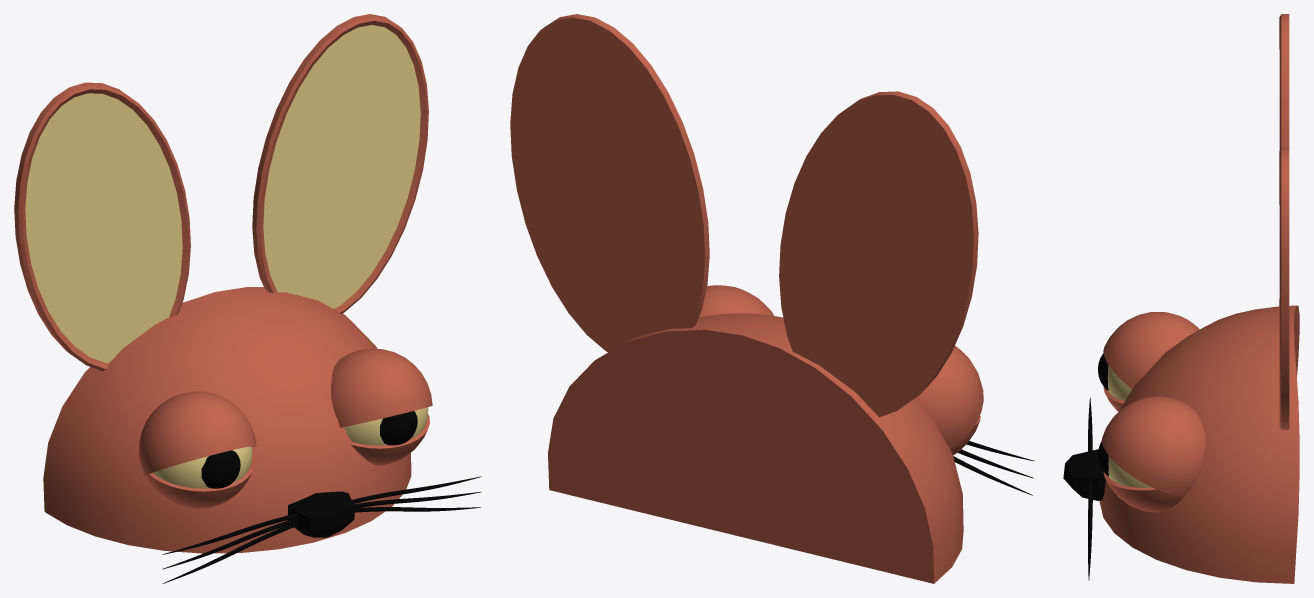
3 renders of one model, left to right at view 1: azimuth 30°, elevation 25°; view 2: azimuth 150°, elevation 25°; view 3: azimuth 270°, elevation 25°, orthographic. The views are drawn at different scales.
Parts seen in each view (by area): view 1: Sphere; view 2: Sphere; view 3: Sphere.
Part boxes in pixels (x1,y1,x2,y2): Sphere: [14, 14, 481, 583]; Sphere: [510, 14, 1034, 583]; Sphere: [1063, 14, 1299, 583].
Size of the model in its own units: 287 by 282 by 145.
